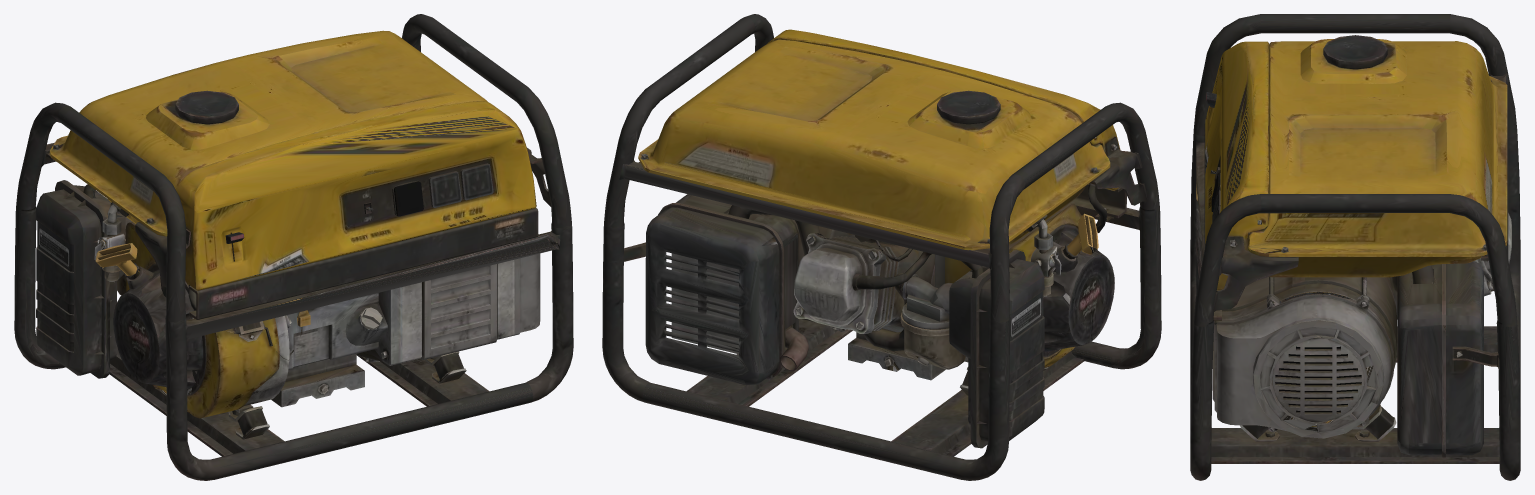
The model's file is portable-generator.glb.
3 views of the same model, side by side, from view 1: azimuth 30°, elevation 25°; view 2: azimuth 150°, elevation 25°; view 3: azimuth 270°, elevation 25° (orthographic).
Visible parts, largest first — view 1: portable_generator; view 2: portable_generator; view 3: portable_generator.
Boxes of the visible parts, bbox=[...] form: portable_generator: bbox=[14, 14, 573, 480]; portable_generator: bbox=[602, 14, 1161, 480]; portable_generator: bbox=[1190, 14, 1520, 480].
Size of the model in its own units: 0.8177 by 0.5769 by 0.564.
Materials: 2 (2 with a texture image).
